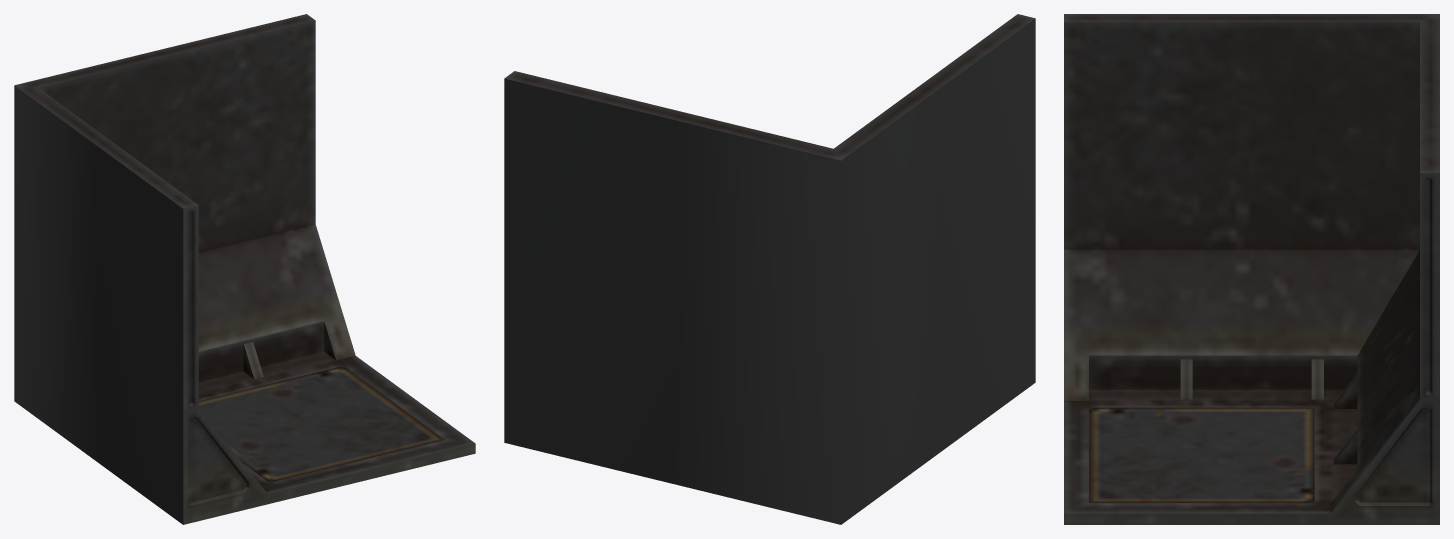
The model's file is Wall-Floor_24_Corner_in_3.FBX.
3 views of the same model, side by side, from view 1: azimuth 30°, elevation 25°; view 2: azimuth 150°, elevation 25°; view 3: azimuth 270°, elevation 25° (orthographic). The views are drawn at different scales.
Visible parts, largest first — view 1: Wall-Floor_24; view 2: Wall-Floor_24; view 3: Wall-Floor_24.
Part boxes in pixels (x1=…): Wall-Floor_24: x1=14, y1=14, x2=475, y2=524; Wall-Floor_24: x1=504, y1=14, x2=1035, y2=524; Wall-Floor_24: x1=1064, y1=14, x2=1439, y2=524.
Size of the model in its own units: 300 by 310 by 300.
